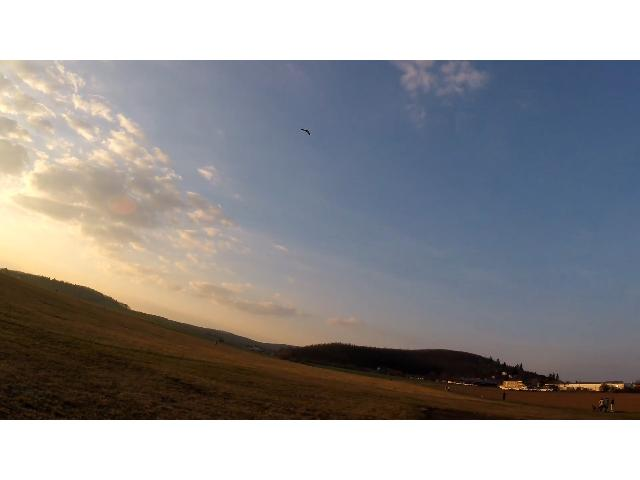Anti-Drone: (302, 129, 310, 135)
